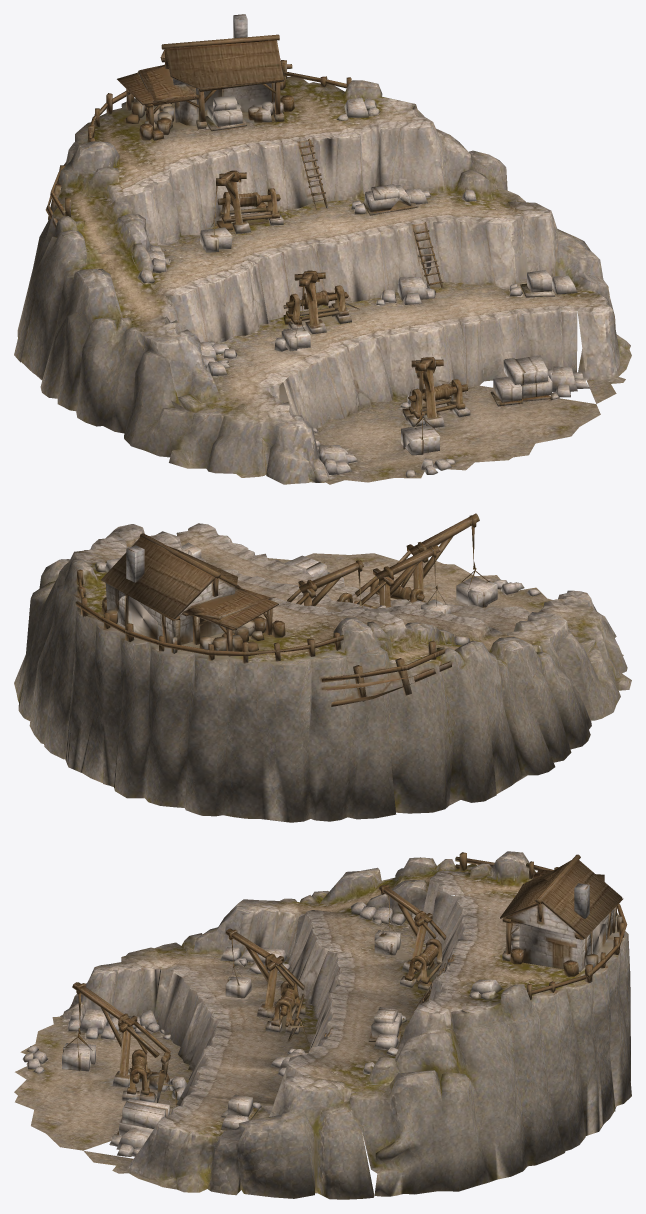
Rendered from wonder_quarry.glb.
The picture shows the model from 3 angles, top to bottom: view 1: azimuth 30°, elevation 25°; view 2: azimuth 150°, elevation 25°; view 3: azimuth 270°, elevation 25°; orthographic projection. The views are drawn at different scales.
Visible parts, largest first — view 1: wonder_quarry; view 2: wonder_quarry; view 3: wonder_quarry.
Part boxes in pixels (x1=…): wonder_quarry: x1=14, y1=14, x2=631, y2=484; wonder_quarry: x1=14, y1=513, x2=631, y2=822; wonder_quarry: x1=14, y1=851, x2=631, y2=1199.
Bounding box in the file's own units: 0.876 × 0.3721 × 0.9551.
Materials: 1 (1 with a texture image).
